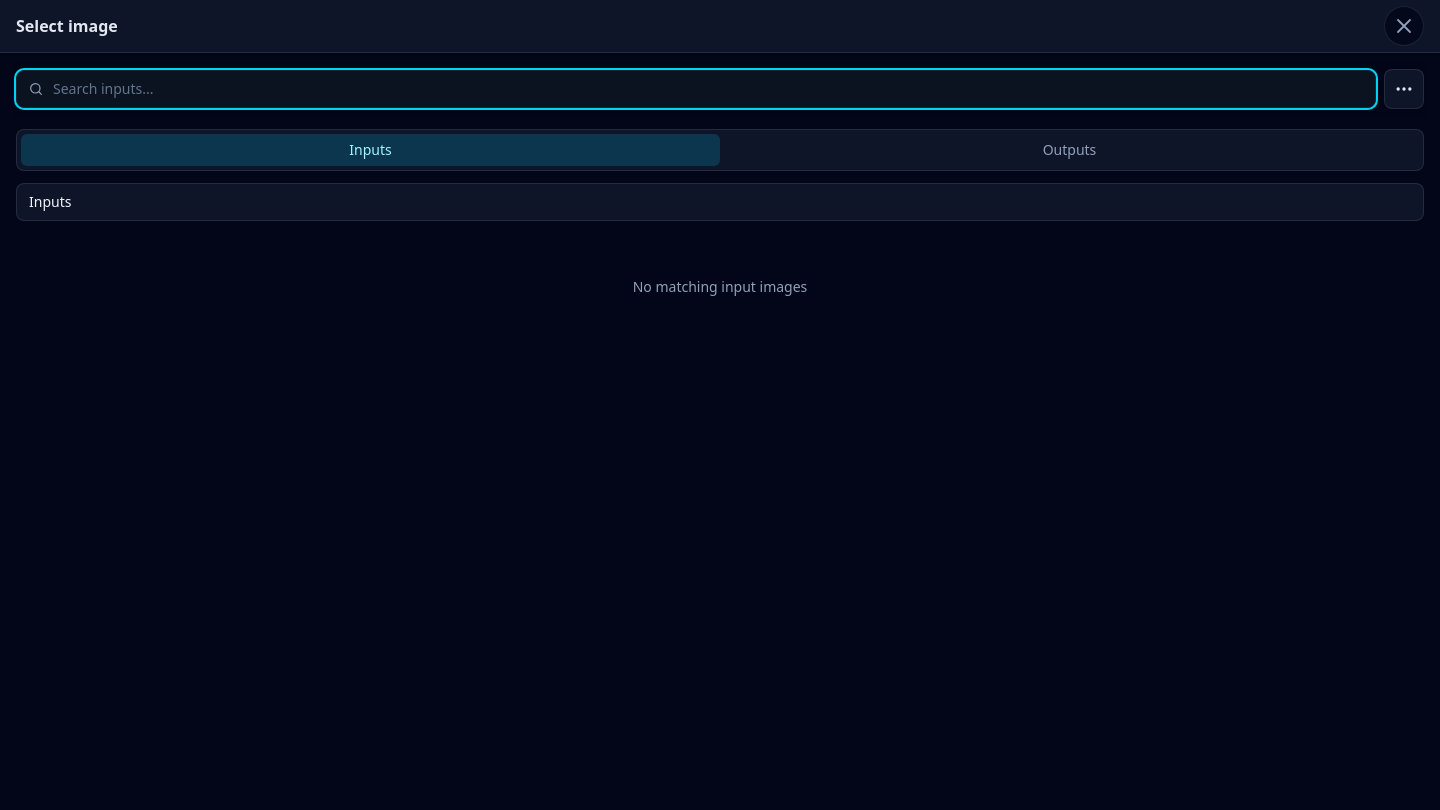
InputFilePicker options menu › uses the global show-hidden preference
This screenshot has width=1440, height=810.
Click the button named "Input picker options" at (1404, 89), box 1384,69 -> 1424,109
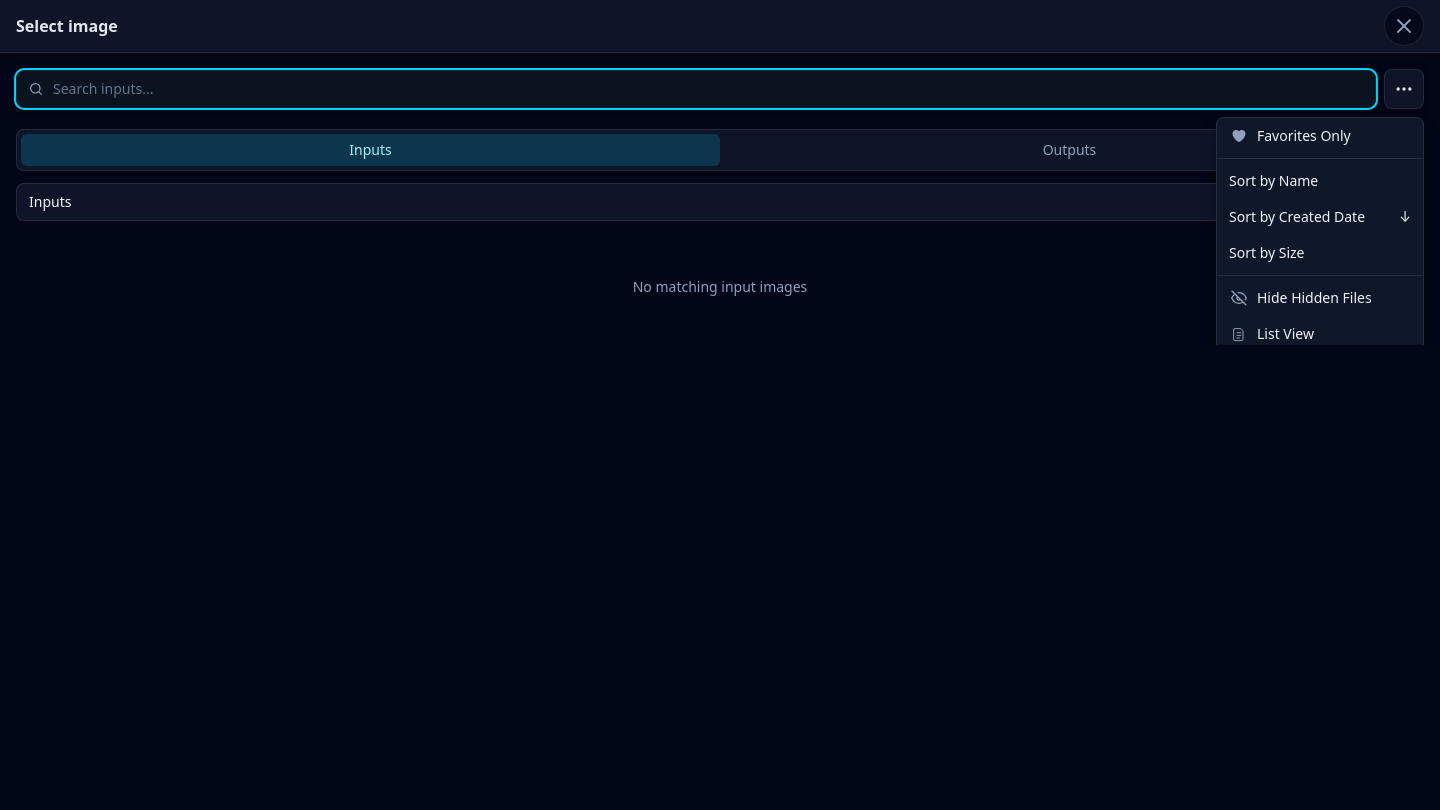
expect the button "Hide Hidden Files" is shown: met, box 1217,280 -> 1423,316
